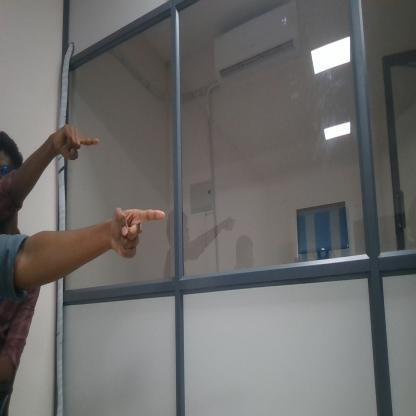Left: (108, 196, 169, 264), (42, 122, 101, 167)
